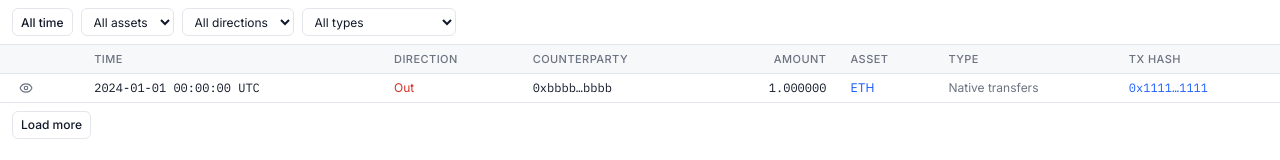
Test: node selection lists transfers and loads more with cursor
Expected: the text "Out" is shown, [382,73,521,102]
Step 1. Click the button "Load more" → (52, 124), box [12,110,91,138]
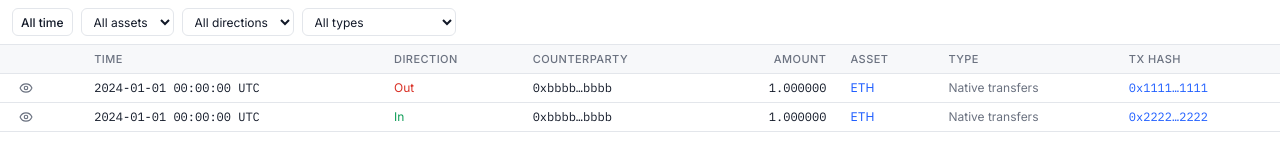
Now the text "In" is shown, box [382,102,521,131]
Now the button "Load more" is gone
